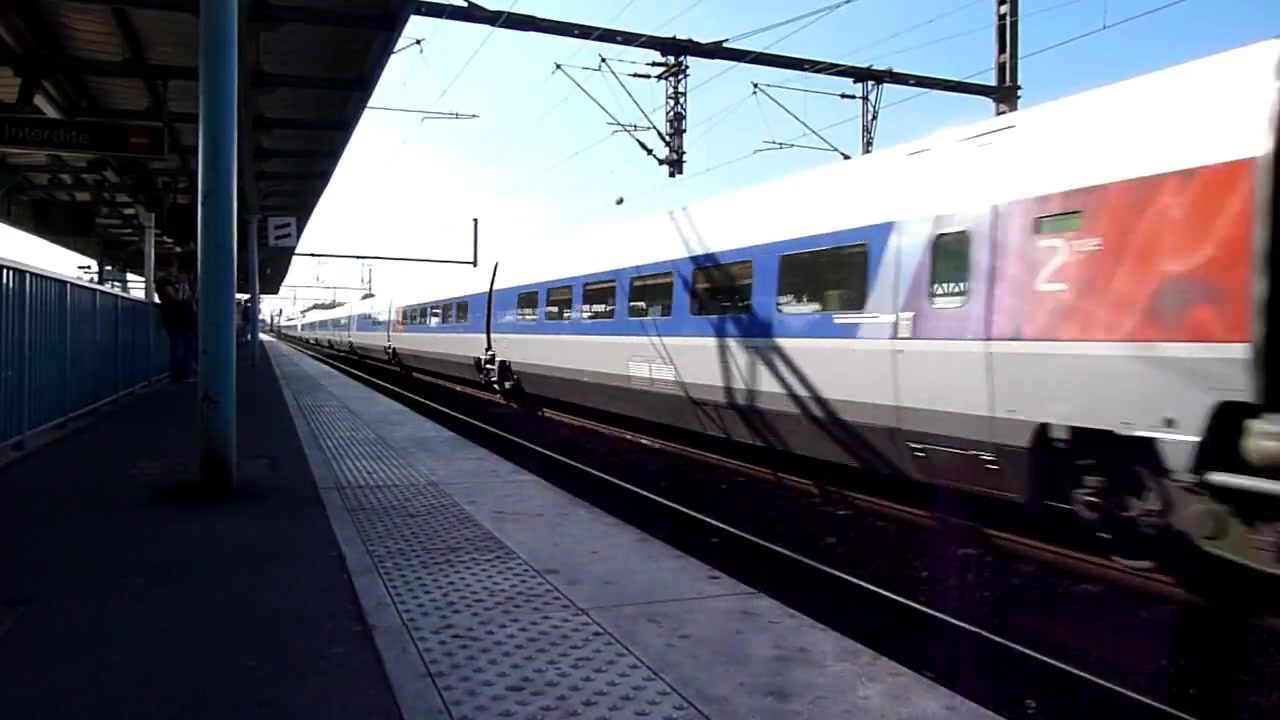train: (273, 33, 1280, 609)
